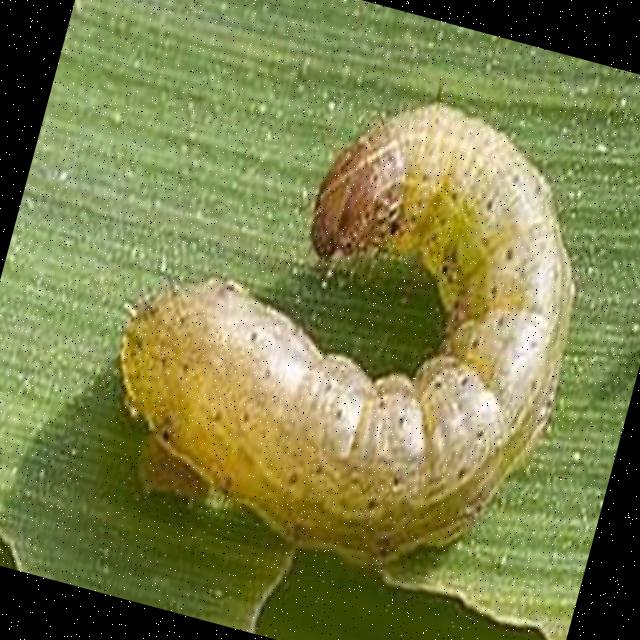worm: (77, 35, 626, 609)
